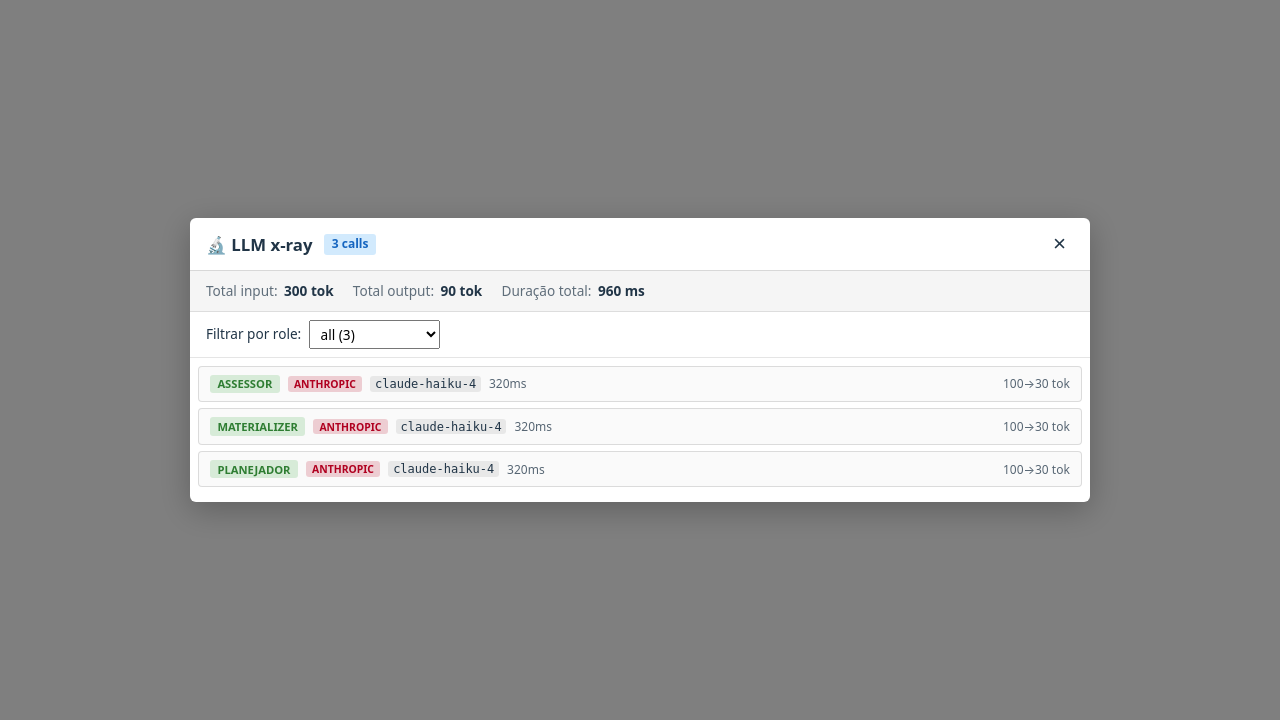
Test case: LlmXrayPanel.svelte — role filter › filtro 'materializer' mostra só materializer
Select "materializer (1)" in the dropdown with test id "llm-xray-role-select" at (375, 334), box [309, 320, 440, 349]
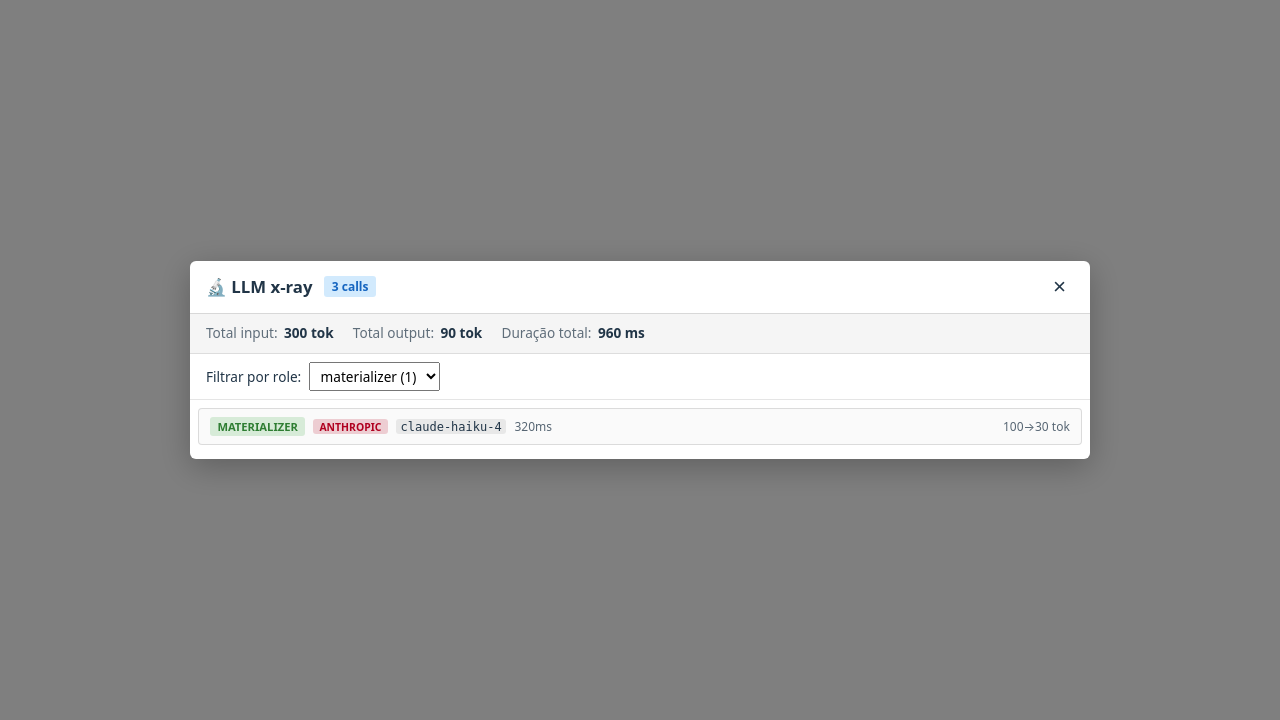
Expected: the text with test id "llm-xray-role-badge" reads "materializer", [217, 419, 298, 434]
Expected: the number of elements with test id "llm-xray-call" is 1, [198, 408, 1082, 445]
